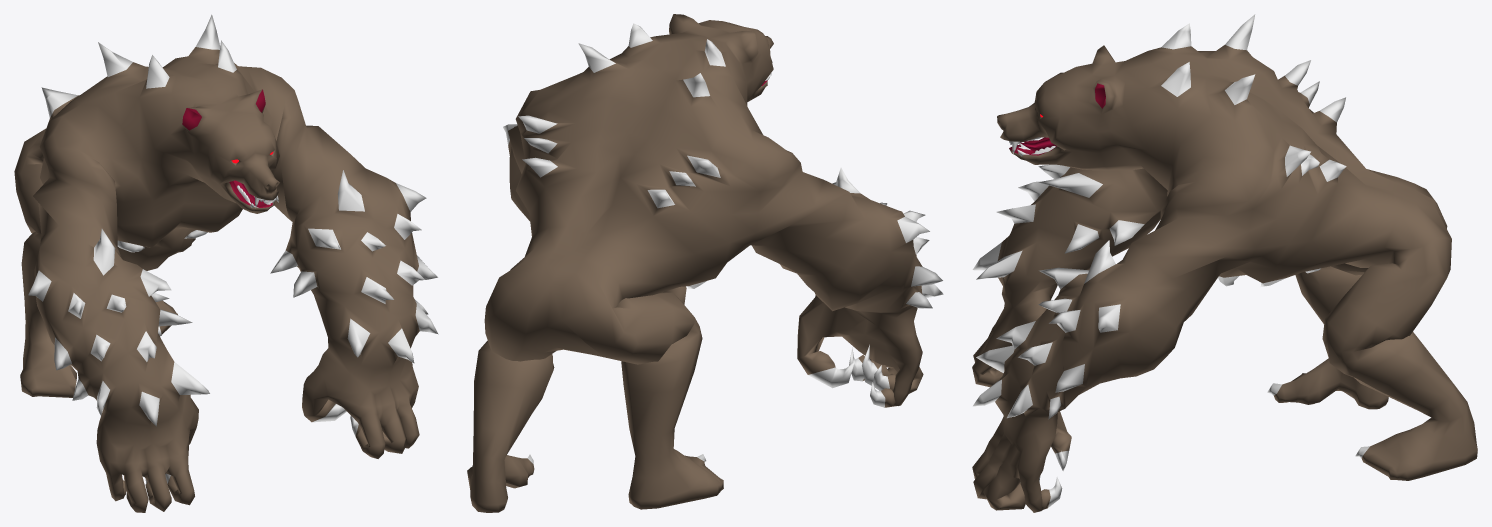
File: bear_boss.fbx
3 views of the same model, side by side, from view 1: azimuth 30°, elevation 25°; view 2: azimuth 150°, elevation 25°; view 3: azimuth 270°, elevation 25° (orthographic). The views are drawn at different scales.
Parts seen in each view (by area): view 1: tooth_2_retopo; view 2: tooth_2_retopo; view 3: tooth_2_retopo.
Part boxes in pixels (x1=…): tooth_2_retopo: x1=14, y1=14, x2=438, y2=512; tooth_2_retopo: x1=467, y1=14, x2=943, y2=512; tooth_2_retopo: x1=972, y1=14, x2=1477, y2=512.
Size of the model in its own units: 304 by 271 by 309.
